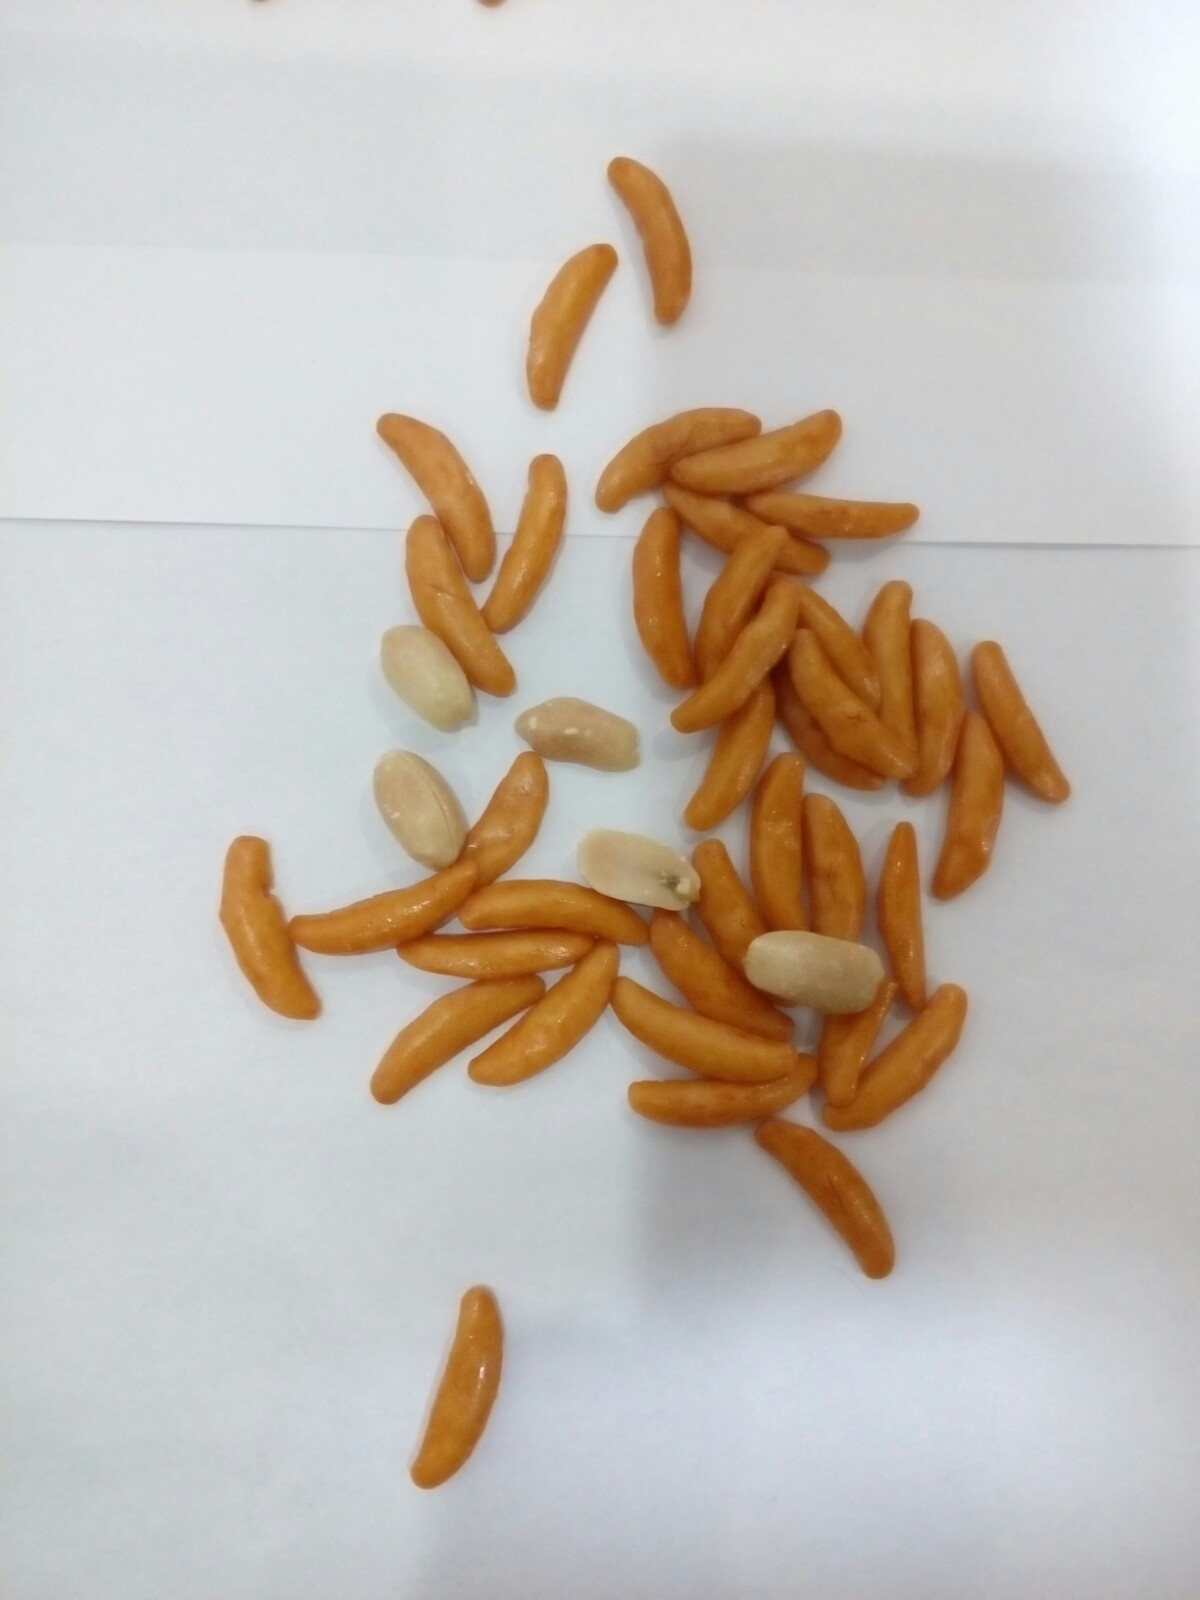peanut: (729, 918, 896, 1020), (369, 745, 487, 889), (509, 689, 666, 779), (376, 614, 487, 733), (565, 826, 701, 908)
